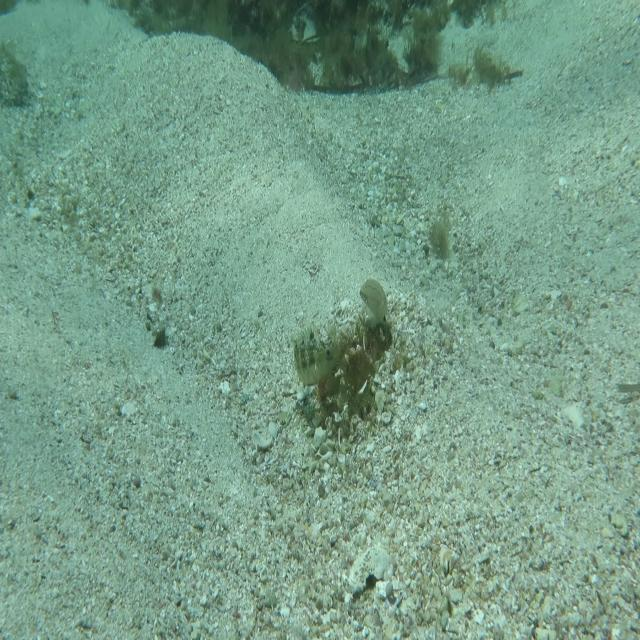BEND: (290, 319, 344, 392)
female: (358, 274, 392, 332)
nest: (298, 311, 402, 446)
vegetation: (131, 0, 527, 32), (261, 37, 440, 94), (426, 223, 455, 277)
